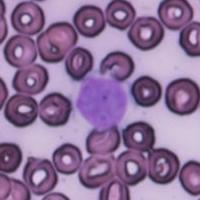L: (71, 73, 130, 131)
